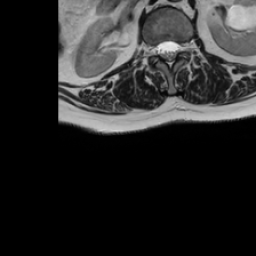CCS_normal: (165, 34, 172, 73)
LFS_normal: (179, 35, 186, 59)
LLS_normal: (172, 35, 178, 63)
RFS_normal: (150, 37, 157, 62)
RLS_normal: (157, 35, 165, 64)
